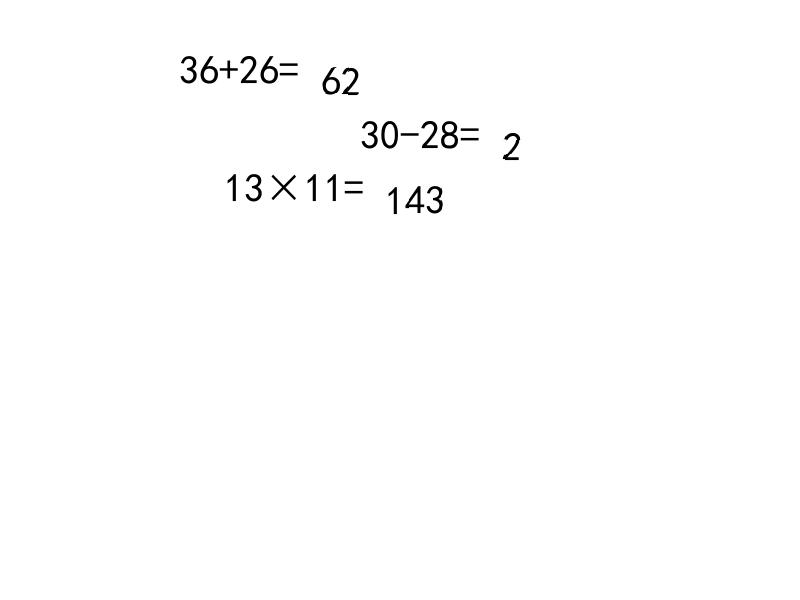+: (219, 49, 239, 78)
-: (400, 114, 420, 144)
0: (380, 114, 400, 144)
1: (224, 167, 244, 196), (304, 167, 324, 196), (324, 167, 344, 196), (374, 167, 394, 196)
2: (420, 114, 440, 144), (490, 114, 510, 144), (239, 49, 259, 78), (329, 49, 349, 78)
3: (360, 114, 380, 144), (179, 49, 199, 78), (244, 167, 264, 196), (414, 167, 434, 196)
4: (394, 167, 414, 196)
6: (199, 49, 219, 78), (259, 49, 279, 78), (309, 49, 329, 78)
8: (440, 114, 460, 144)
=: (460, 114, 480, 144), (279, 49, 299, 78), (344, 167, 364, 196)
×: (264, 167, 304, 196)
